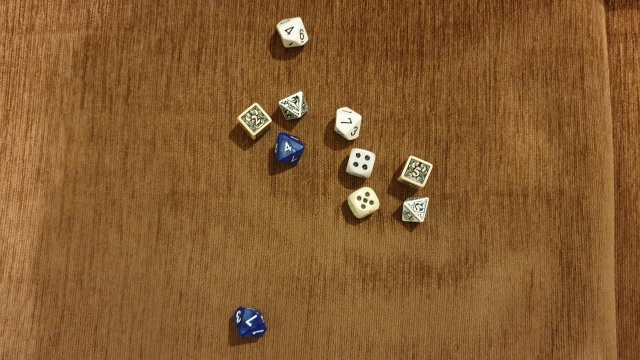d10-4: (274, 11, 314, 55), (271, 129, 307, 172)
d10-7: (228, 299, 272, 345), (328, 102, 365, 146)
d6-4: (340, 147, 379, 181)
d6-5: (345, 184, 382, 221)
d6p-2: (236, 102, 272, 142)
d6p-5: (395, 153, 433, 191)
d8p-1: (277, 92, 310, 122)
d8p-5: (397, 194, 436, 228)
